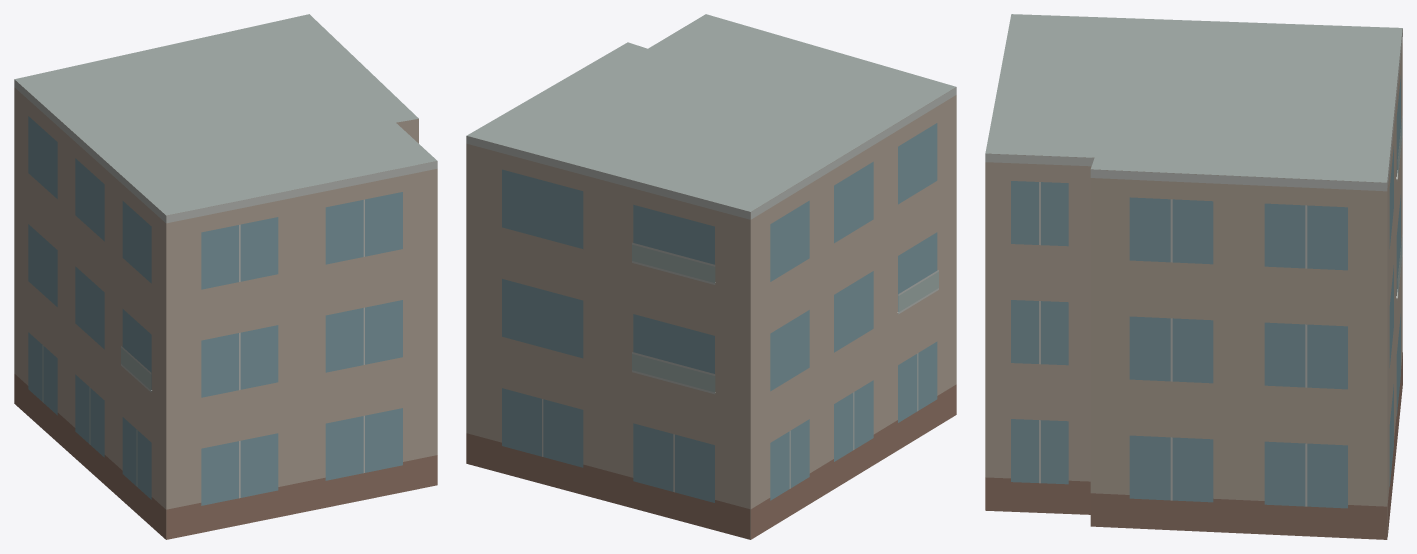
The model's file is survey-upis-32922915.glb.
3 views of the same model, side by side, from view 1: azimuth 30°, elevation 25°; view 2: azimuth 150°, elevation 25°; view 3: azimuth 270°, elevation 25° (orthographic). The views are drawn at different scales.
Visible parts, largest first — view 1: survey-upis-32922915.tmp; view 2: survey-upis-32922915.tmp; view 3: survey-upis-32922915.tmp.
Boxes of the visible parts, bbox=[...] form: survey-upis-32922915.tmp: bbox=[14, 14, 437, 539]; survey-upis-32922915.tmp: bbox=[466, 14, 956, 539]; survey-upis-32922915.tmp: bbox=[985, 14, 1402, 539].
Bounding box in the file's own units: 10.24 × 10.1 × 10.71.
